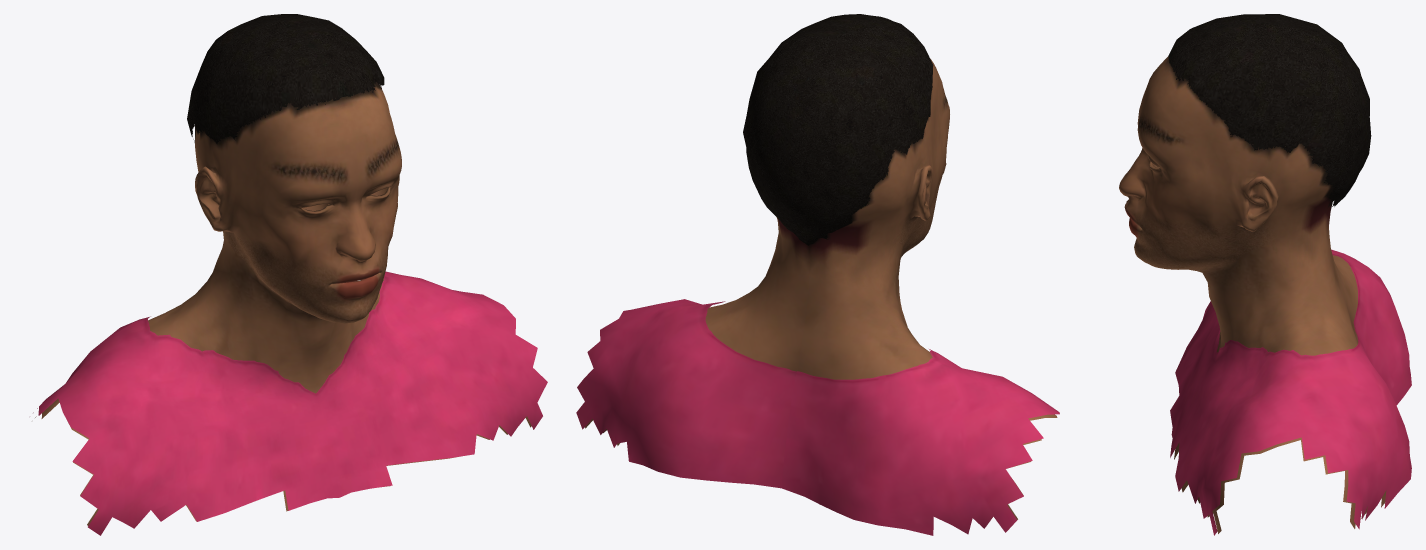
The model's file is peter.glb.
The picture shows the model from 3 angles, left to right: view 1: azimuth 30°, elevation 25°; view 2: azimuth 150°, elevation 25°; view 3: azimuth 270°, elevation 25°; orthographic projection. The views are drawn at different scales.
Visible parts, largest first — view 1: shirt, head, hair; view 2: shirt, hair, head; view 3: head, shirt, hair.
Boxes of the visible parts, x1,y1,x2,y2 form: shirt: (33, 271, 547, 535); head: (35, 82, 531, 525); hair: (187, 14, 384, 144); shirt: (576, 299, 1059, 535); hair: (743, 14, 933, 245); head: (585, 58, 1057, 519); head: (1119, 56, 1386, 533); shirt: (1170, 249, 1411, 535); hair: (1168, 14, 1371, 206).
Size of the model in its own units: 4.6 by 4.12 by 2.65.
Materials: 5 (3 with a texture image).
